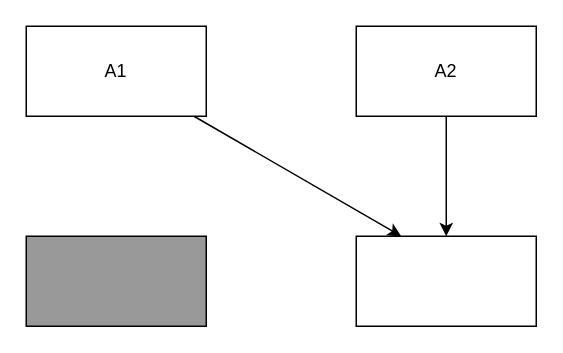
The diagram is 563 pixels wide and 353 high, and some of its shapes have lost their labels. The centre of each missing label's shape, as x and y in pixels:
"B1" belongs at point 115,280.
"B2" belongs at point 445,280.
